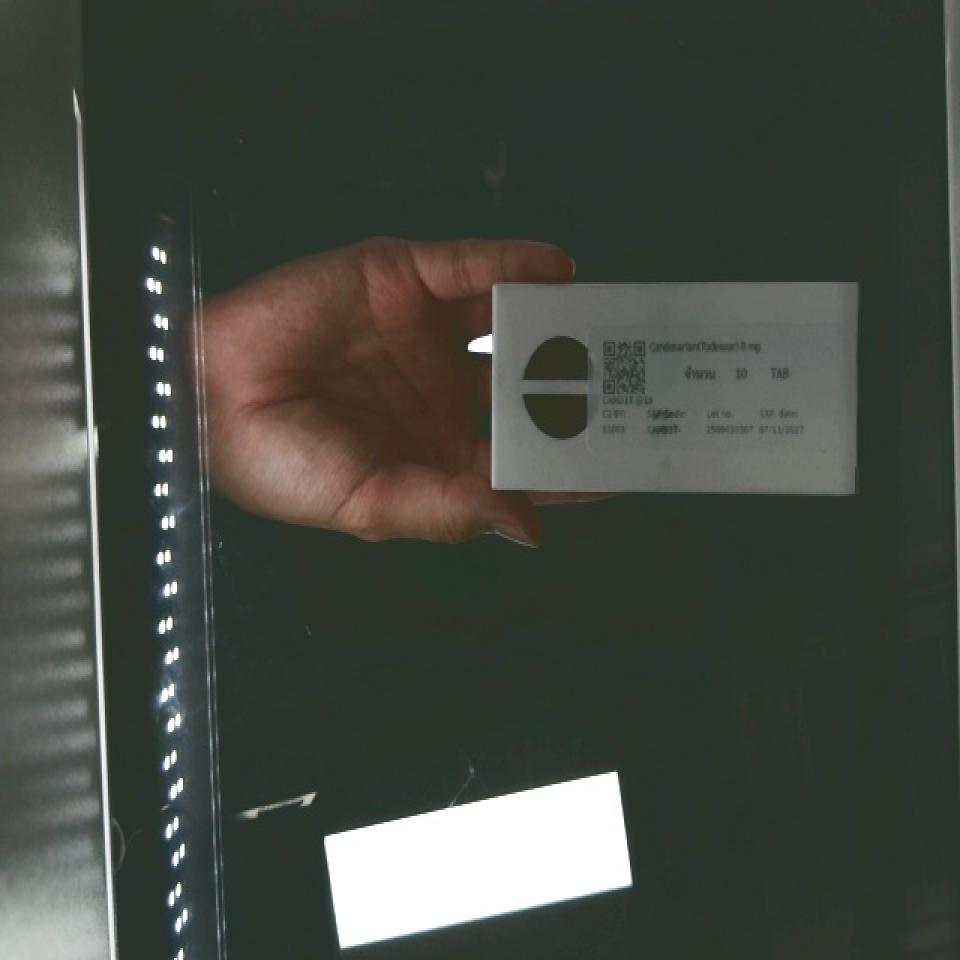medicine_box: (489, 277, 854, 492)
qr_code: (589, 323, 659, 418)
